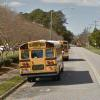Bus: (11, 35, 72, 84)
